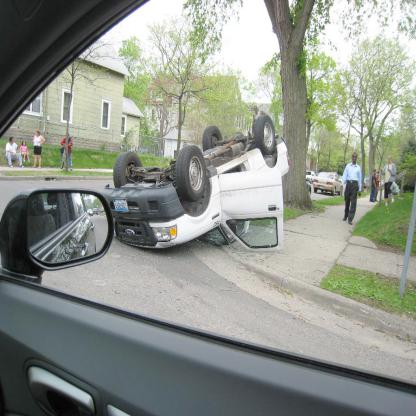Car: (0, 0, 416, 416), (101, 114, 291, 259), (312, 172, 344, 197), (305, 171, 315, 182)
